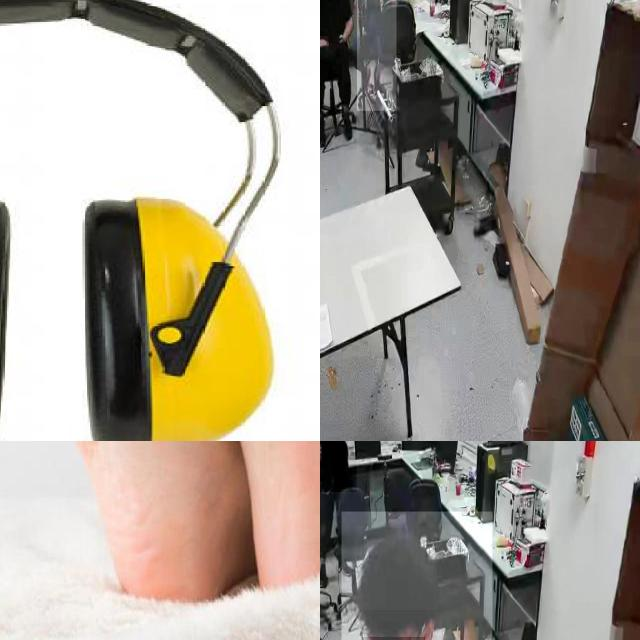Barefoots: (14, 441, 212, 631), (142, 441, 320, 597)
Ear-protection: (0, 0, 278, 441)
glasses: (359, 620, 409, 640)
hand_noglove: (336, 31, 349, 45), (320, 36, 329, 49), (320, 444, 322, 462)
head_nohelmet: (355, 526, 437, 611)
person: (341, 511, 492, 640), (320, 0, 356, 150), (357, 0, 397, 111), (320, 441, 357, 493)
shoes: (339, 104, 357, 150), (320, 111, 330, 146)
